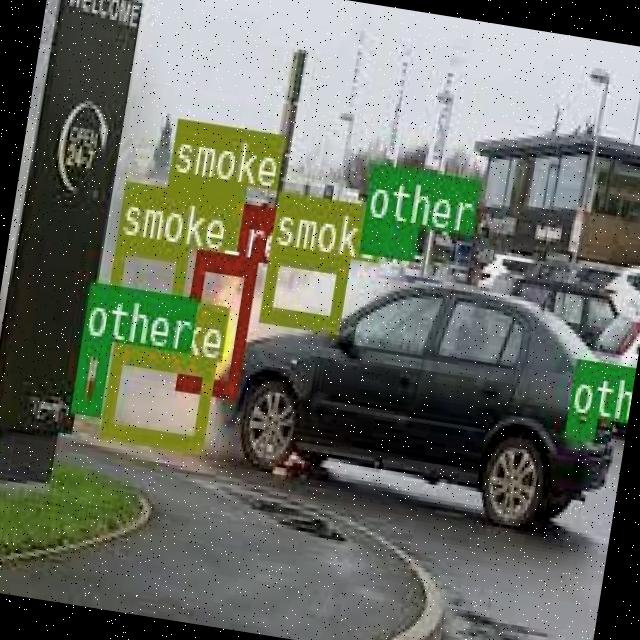fire: (175, 250, 256, 394)
smoke: (98, 344, 214, 448), (101, 236, 188, 336), (258, 243, 348, 331), (159, 173, 244, 247)
